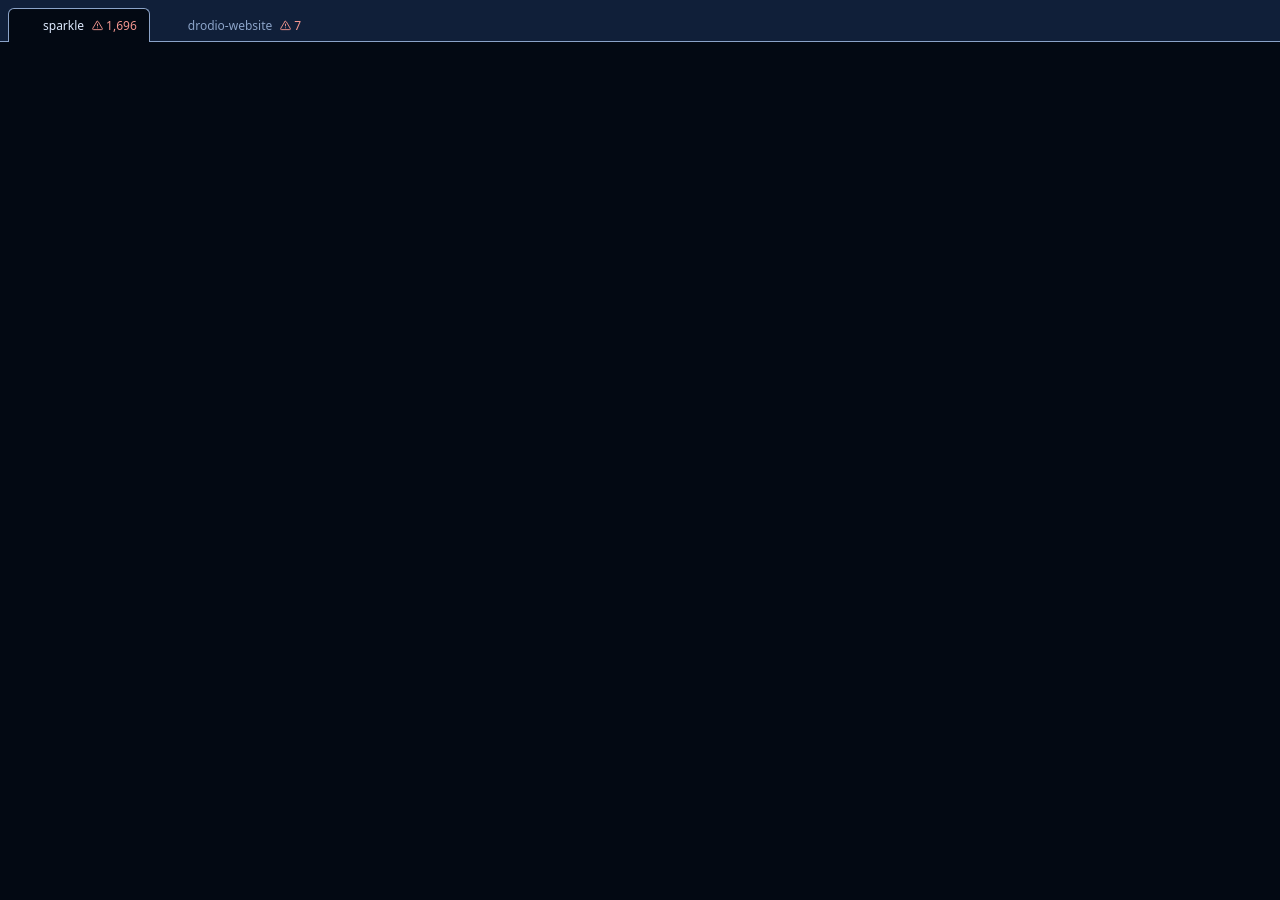
Test case: the stale badge opens the remedy panel › lists every other stale project alongside the clicked one
Click the button with test id "stale-sparkle" at (114, 26), box [92,17,137,34]
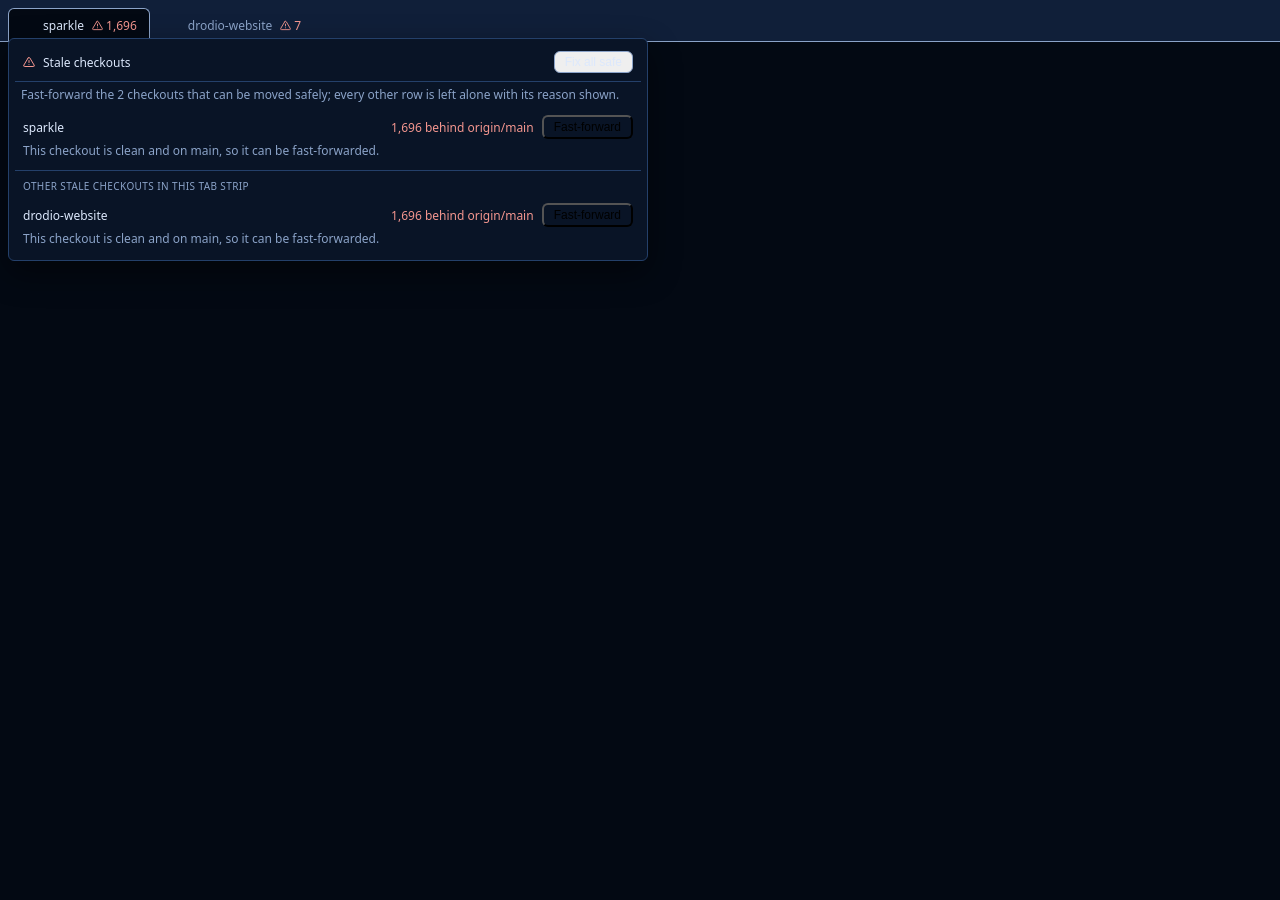
Check: the element with test id "stale-row-sparkle" is shown, box [15,109,641,166]
Check: the element with test id "stale-row-website" is shown, box [15,197,641,254]
